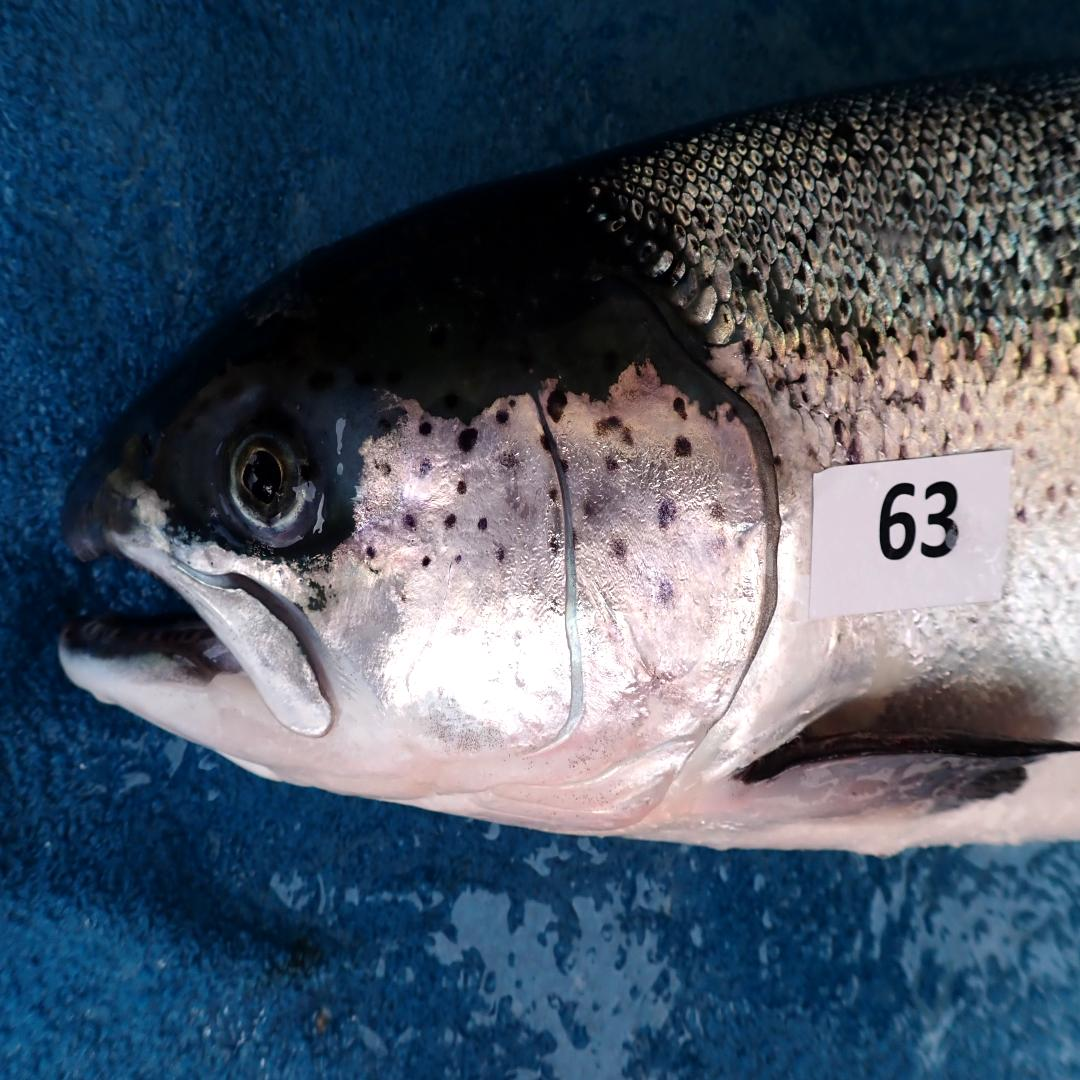roi: (328, 357, 774, 838)
